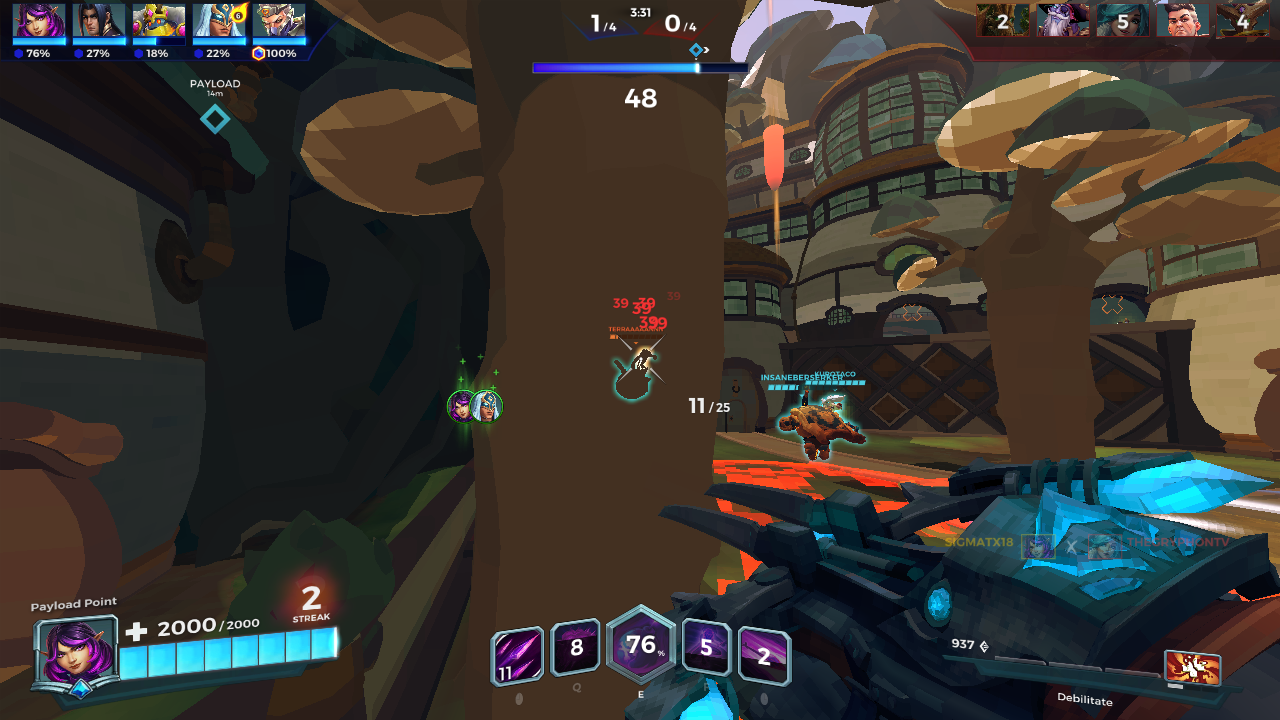model: (635, 347, 654, 370)
